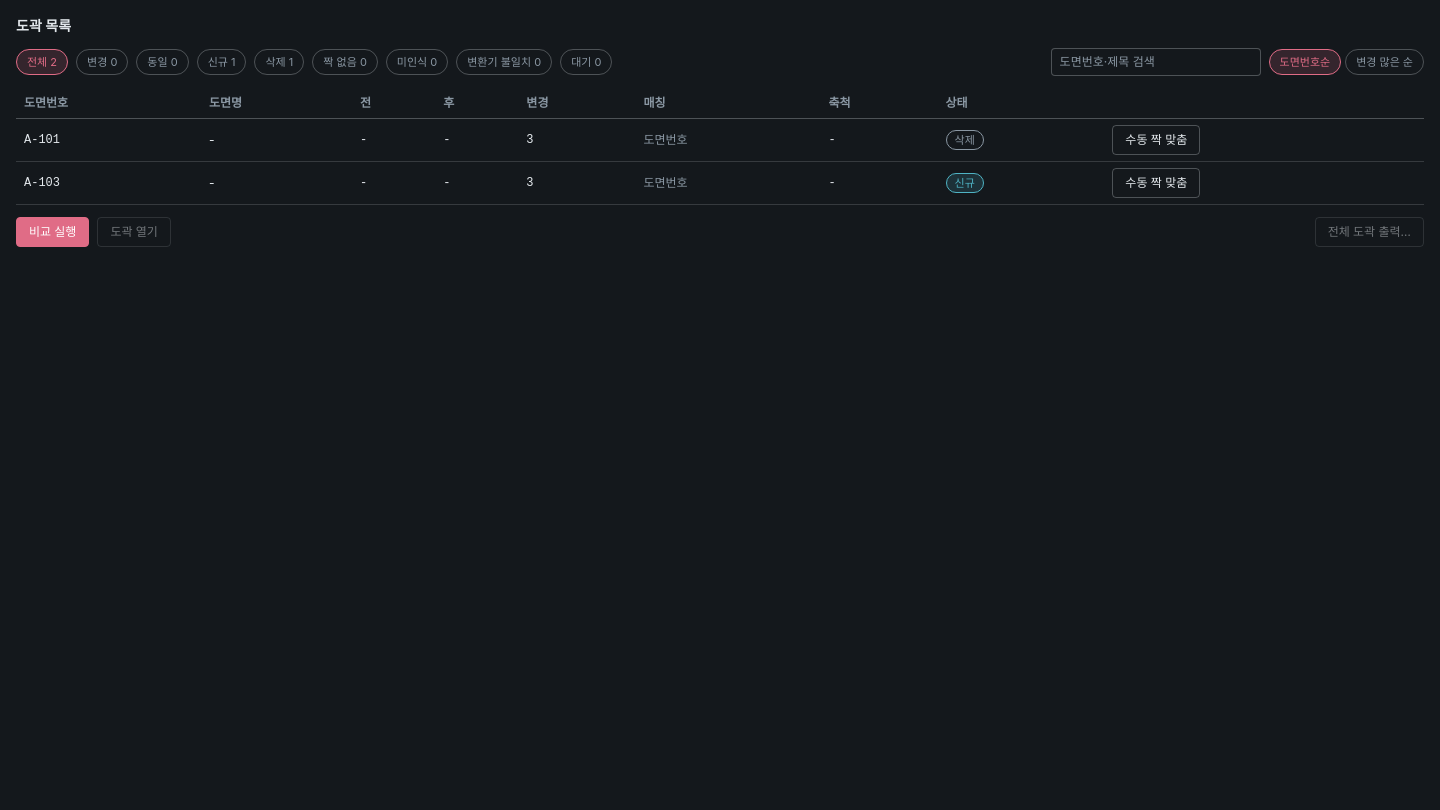
Test: SheetListScreen › shows the manual-pair dialog for an unpaired/added/removed row and confirms a pairing
Click the button "수동 짝 맞춤" in the row of "A-101" at (1156, 140), box [1112,125,1200,155]
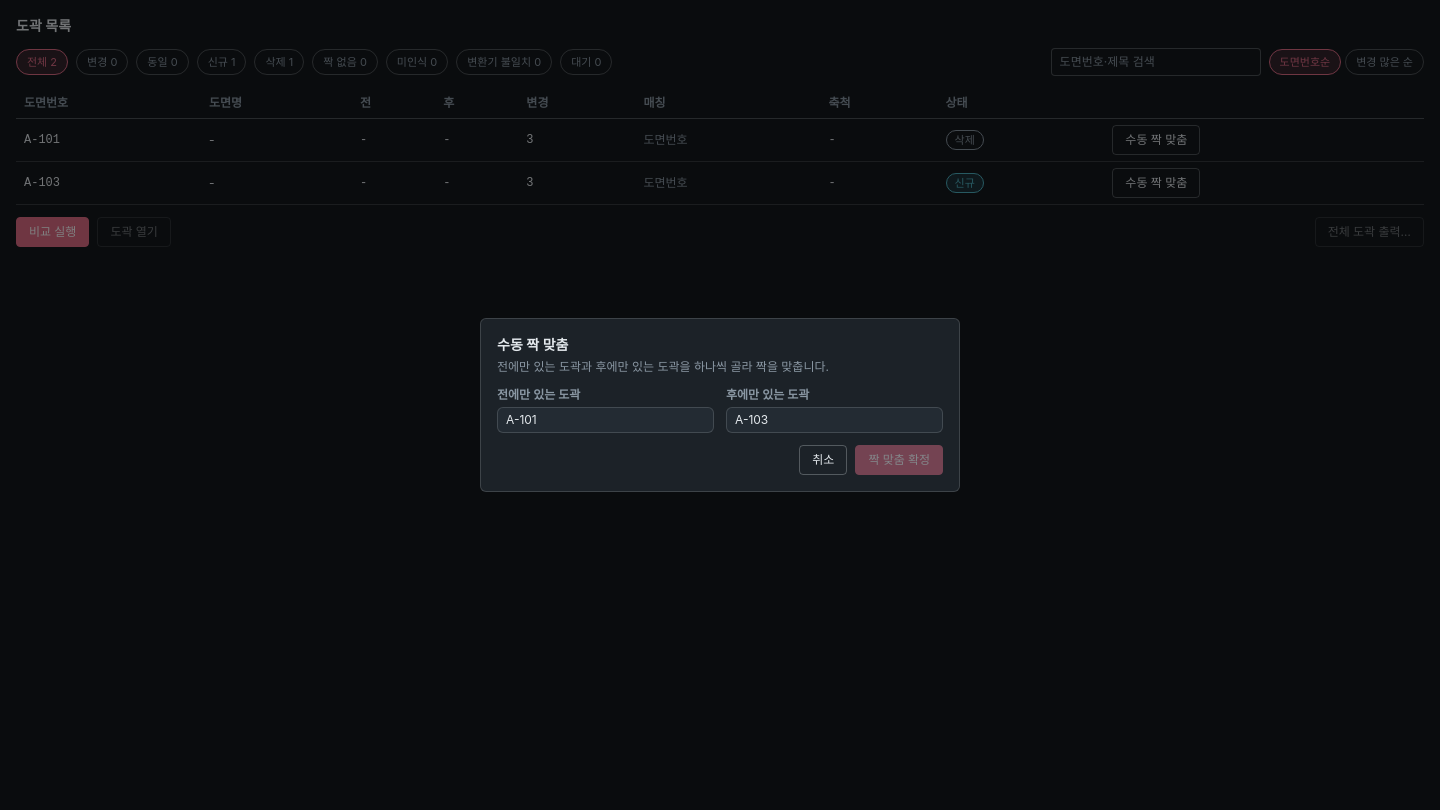
Click the button "A-101" at (606, 420), box [498,408,713,432]
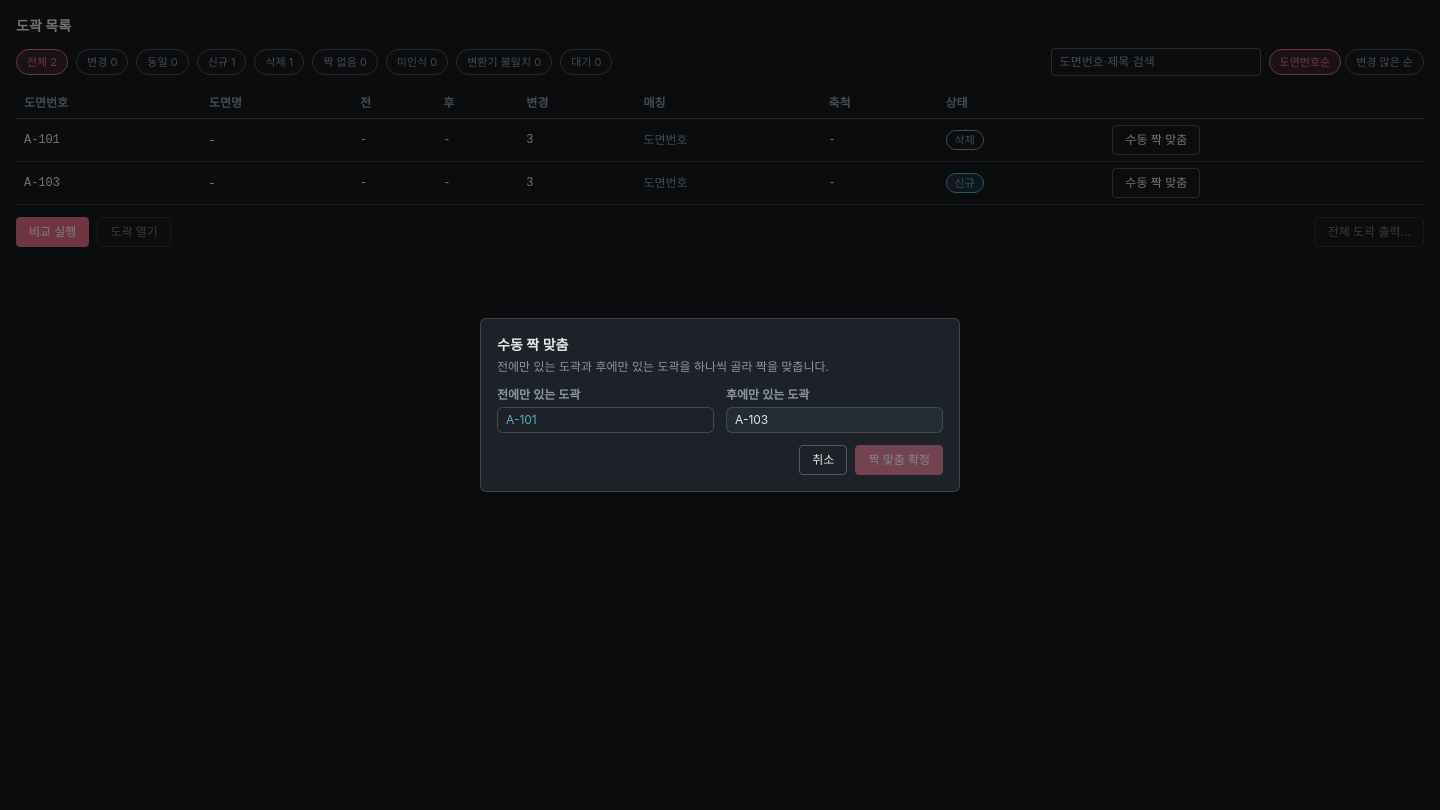
Click the button "A-103" at (834, 420), box [727,408,942,432]
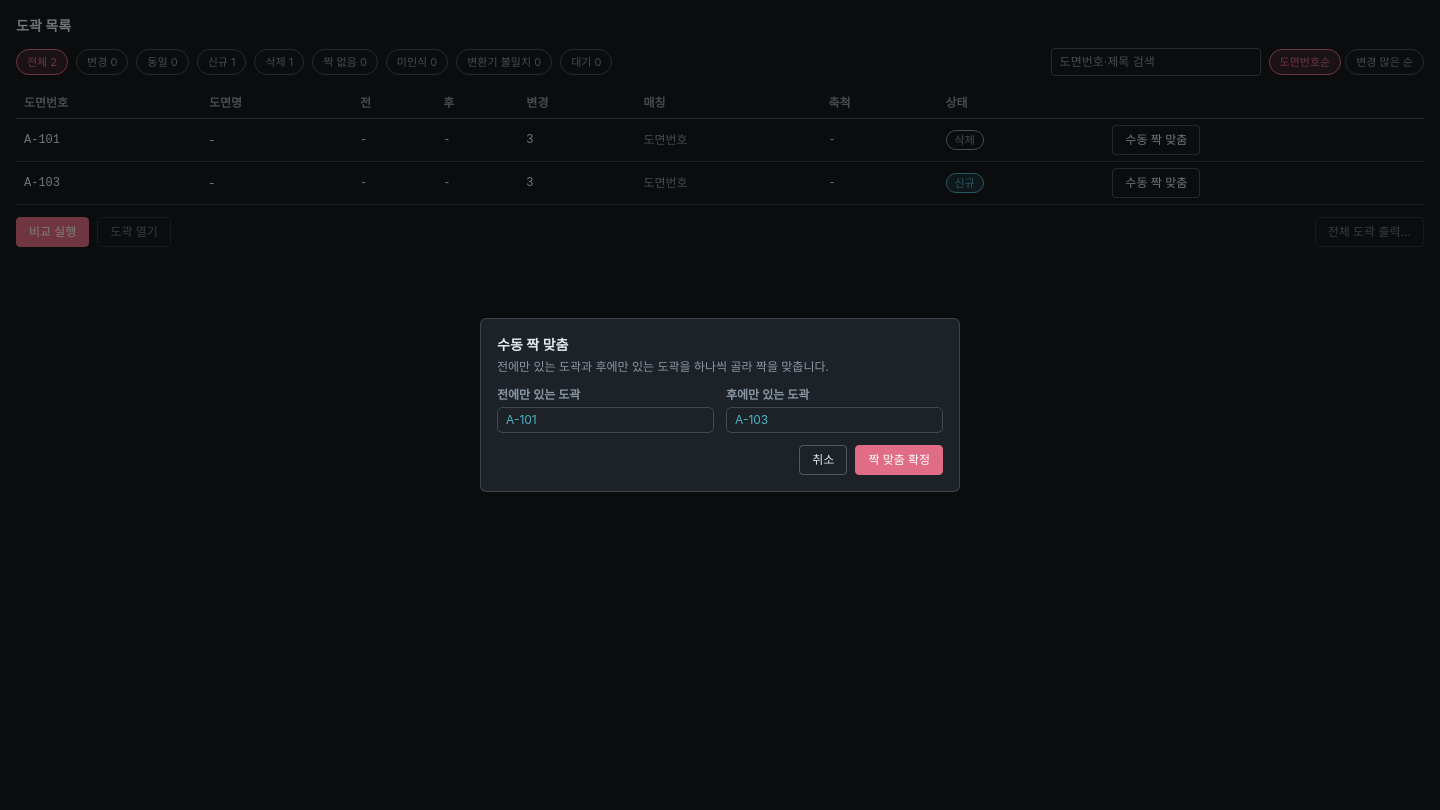
Click the button "짝 맞춤 확정" at (899, 460), box [855,445,943,475]
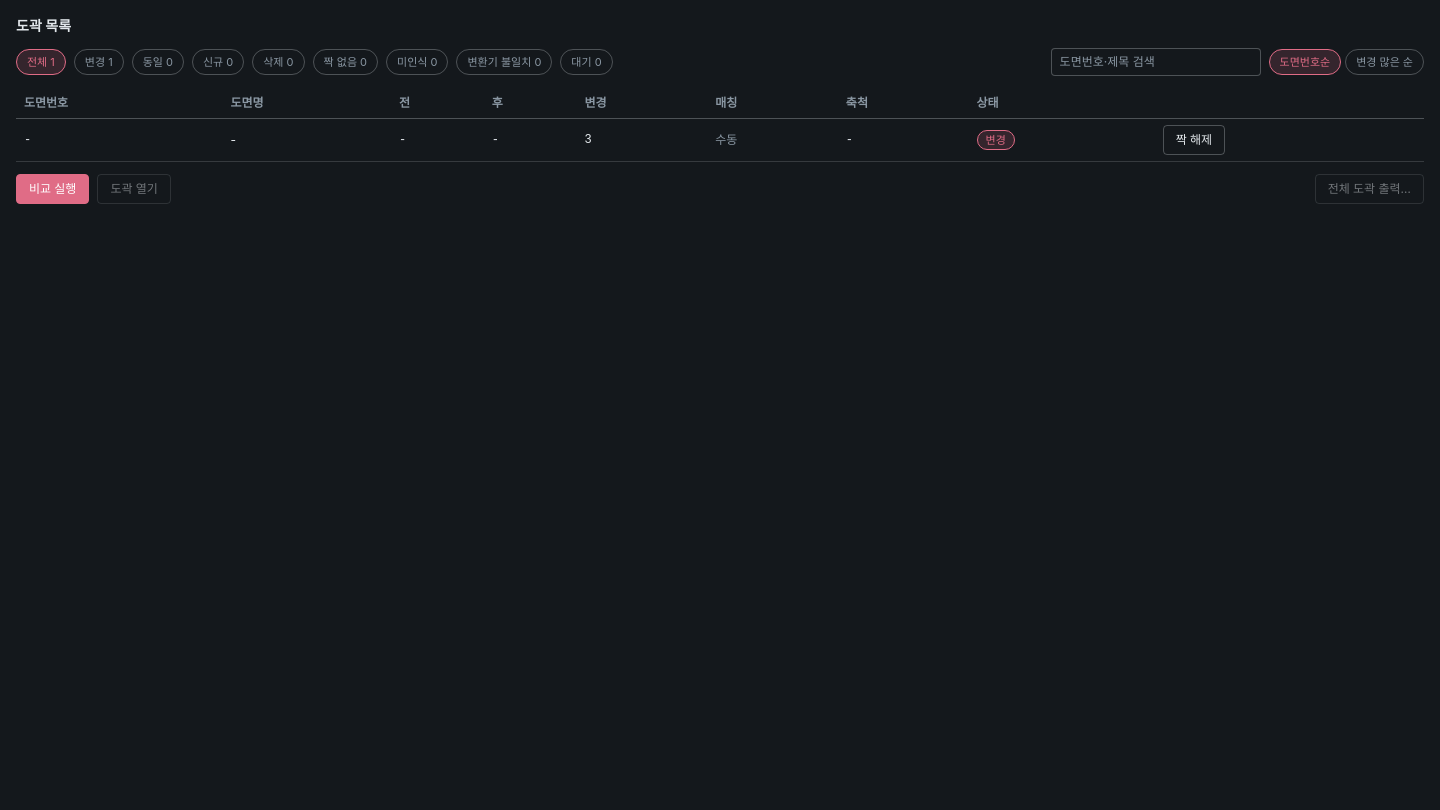
Expected: the dialog is gone
